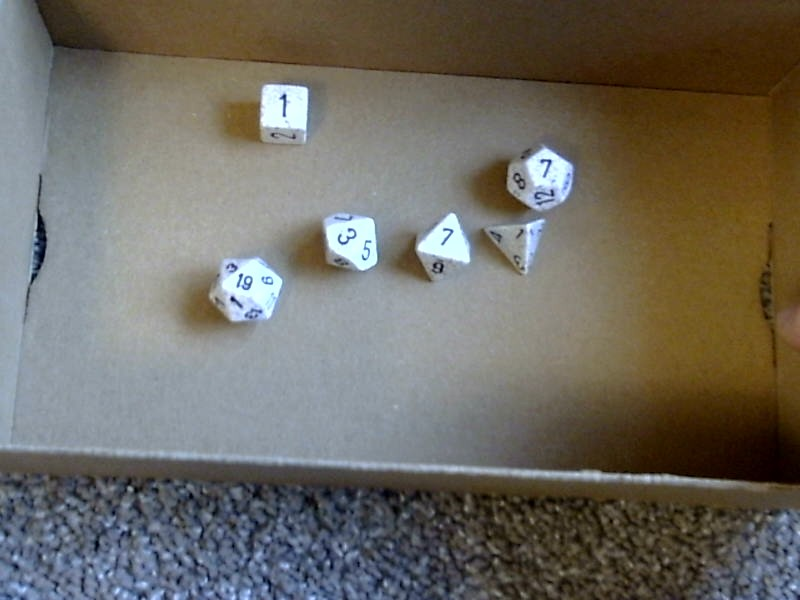d10 3: (316, 203, 385, 281)
d12 7: (497, 140, 583, 214)
d20 19: (202, 246, 285, 330)
d4 1: (478, 217, 556, 283)
d6 1: (249, 75, 318, 151)
d8 7: (411, 210, 473, 293)
